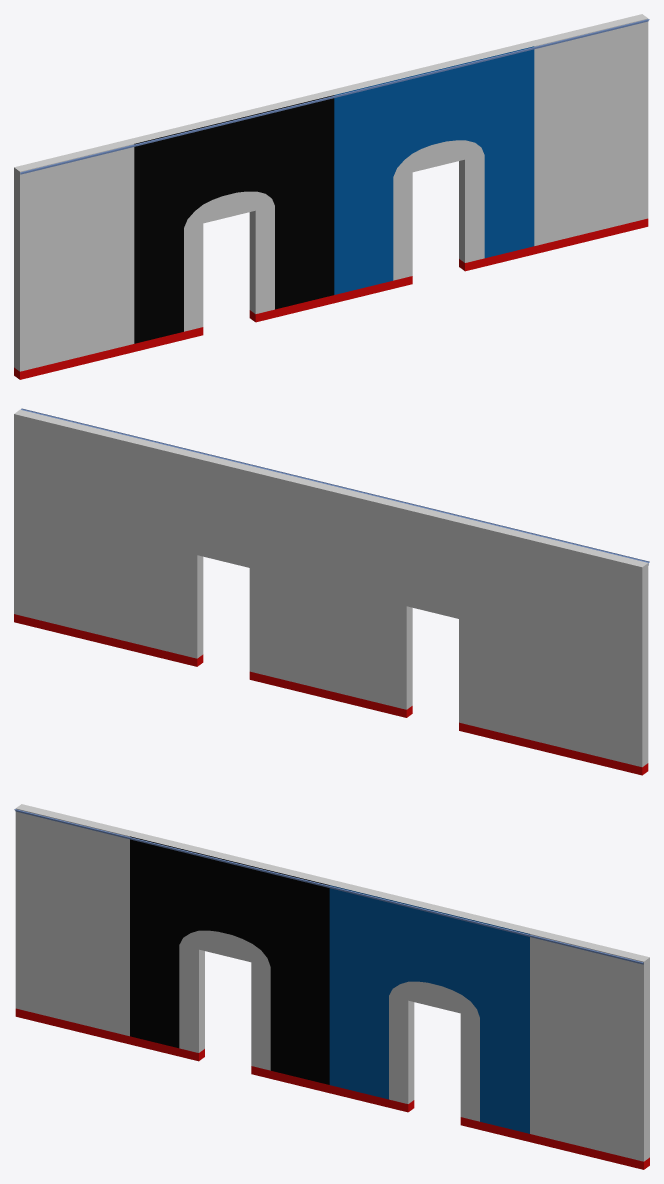
File: Restroom_Wall_01_Snaps014.FBX
3 renders of one model, top to bottom at view 1: azimuth 30°, elevation 25°; view 2: azimuth 150°, elevation 25°; view 3: azimuth 330°, elevation 25°, orthographic.
Visible parts, largest first — view 1: Restroom_Wall_01; view 2: Restroom_Wall_01; view 3: Restroom_Wall_01.
Part boxes in pixels (x1,y1,x2,y2): Restroom_Wall_01: [14, 14, 649, 379]; Restroom_Wall_01: [14, 408, 649, 775]; Restroom_Wall_01: [14, 804, 649, 1169].
Bounding box in the file's own units: 1200 × 380 × 25.32.
